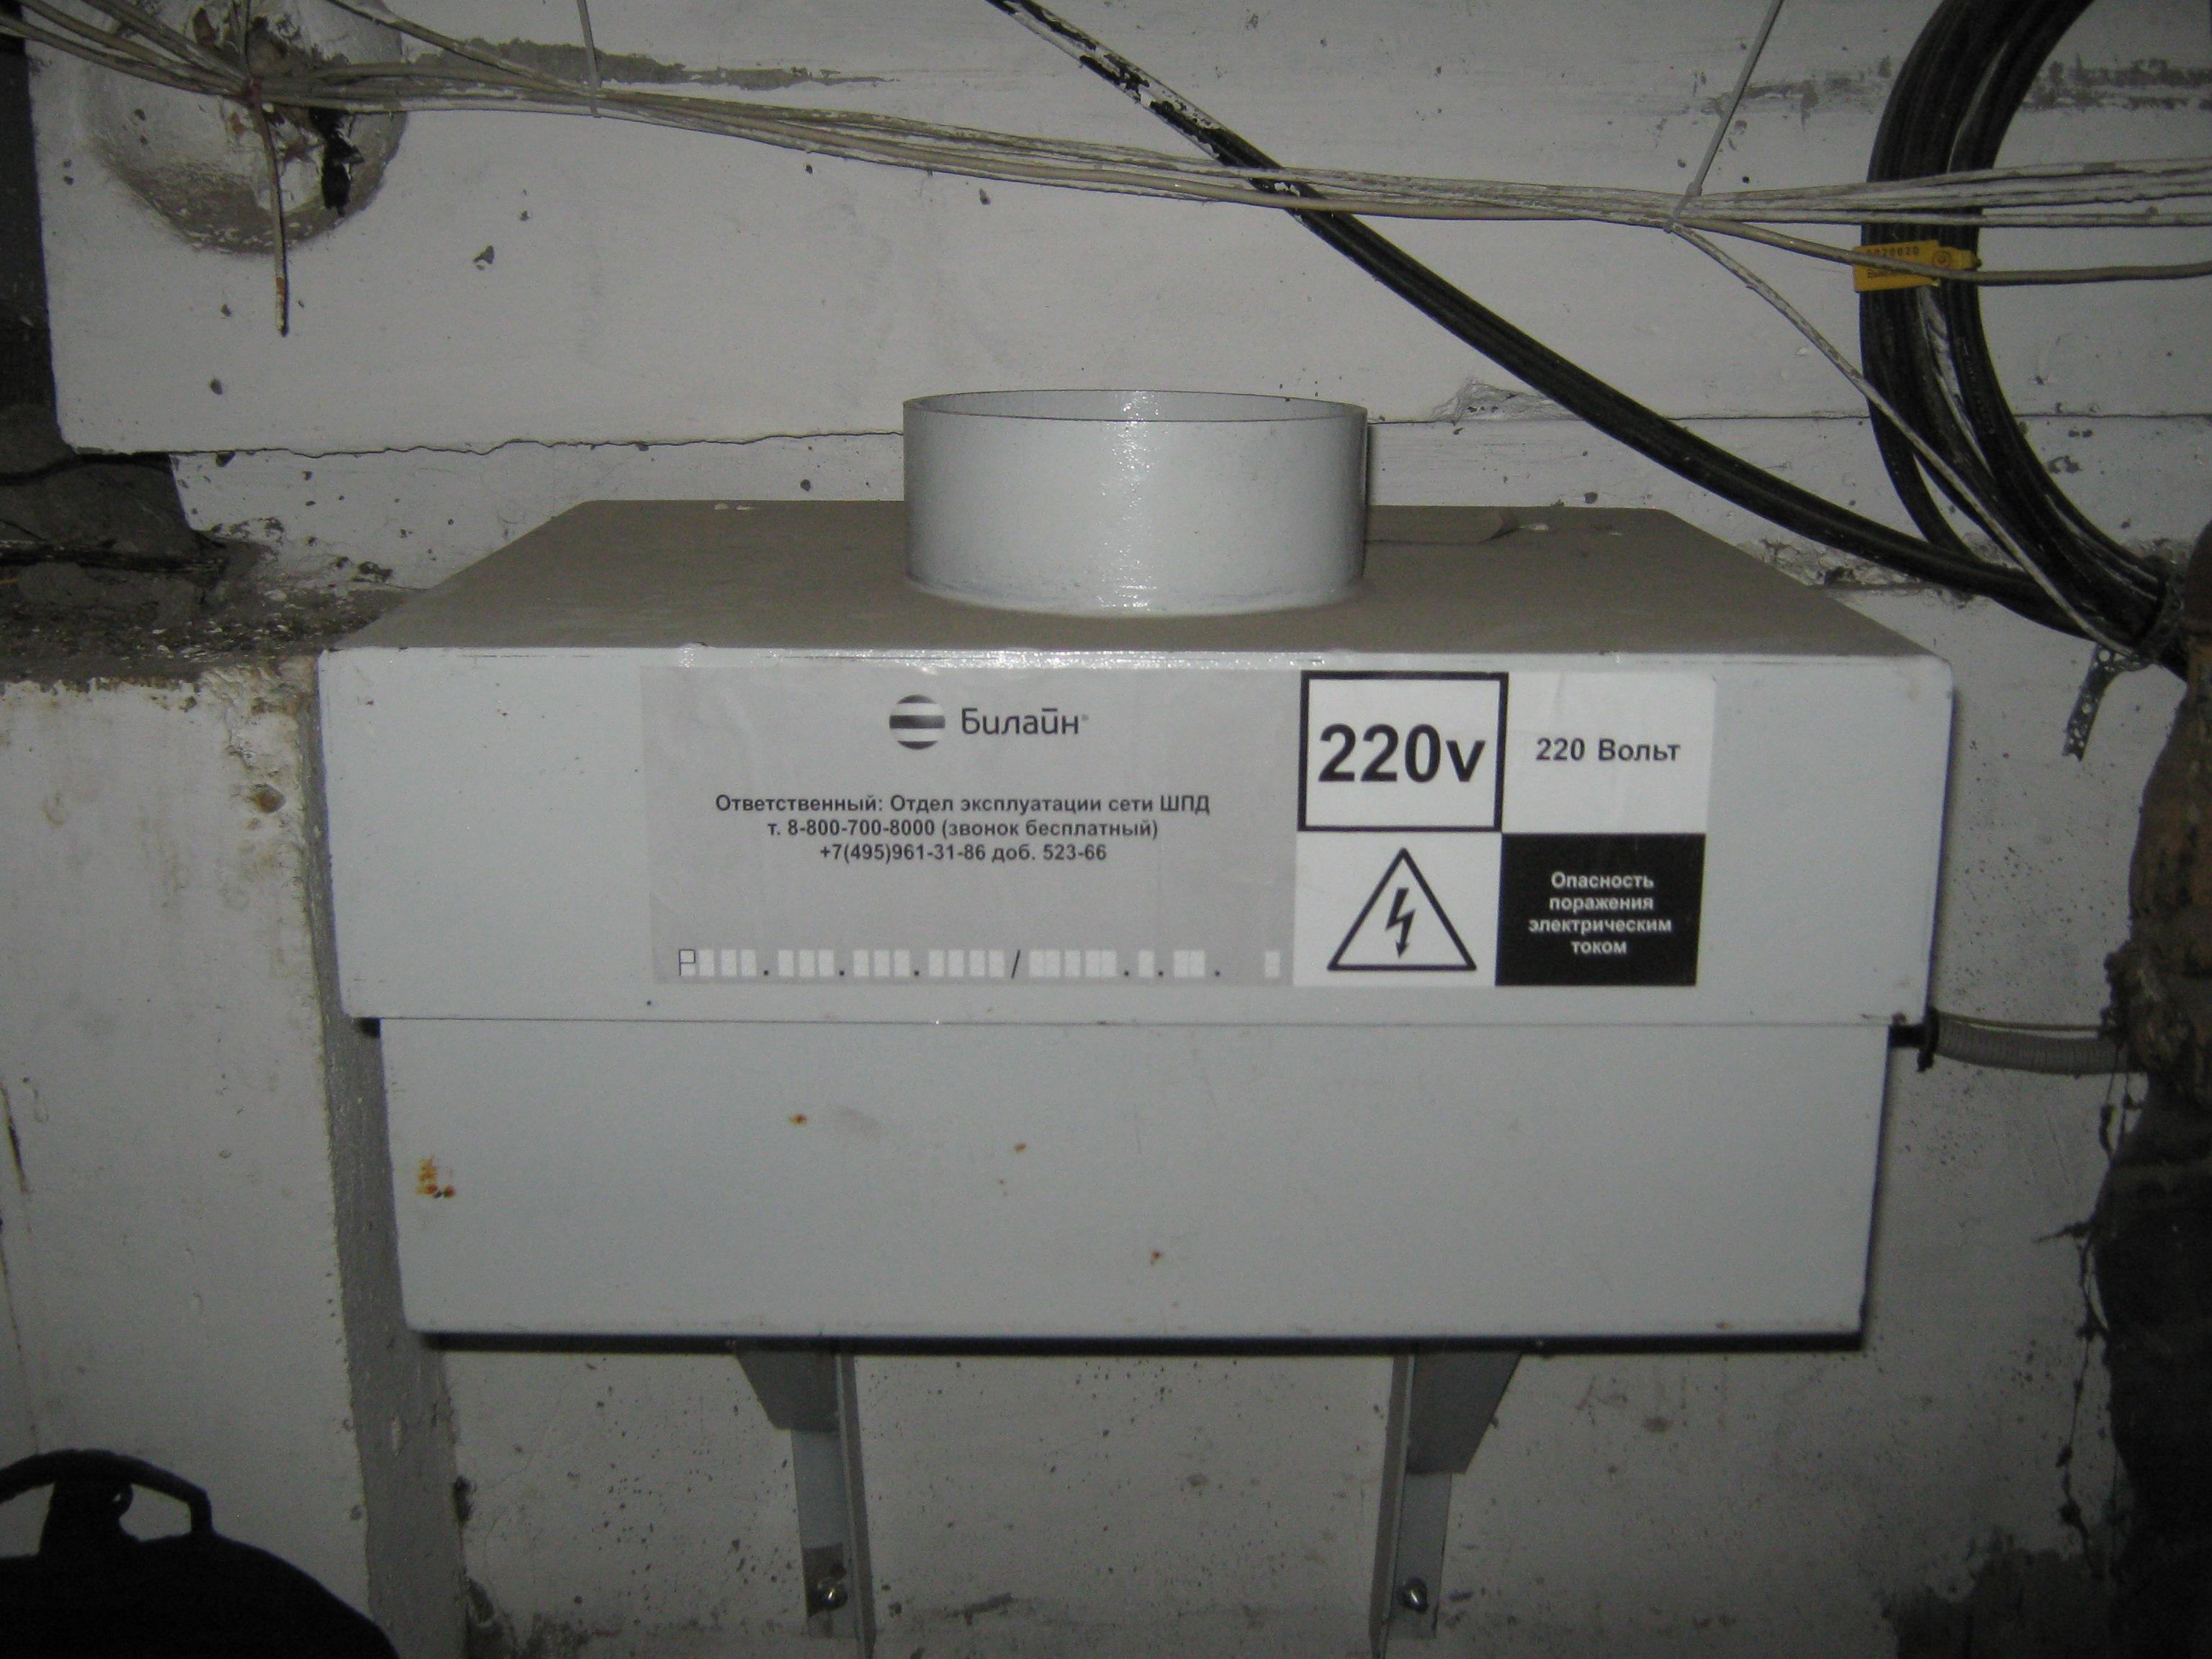shta-ps: (294, 373, 1977, 1364)
